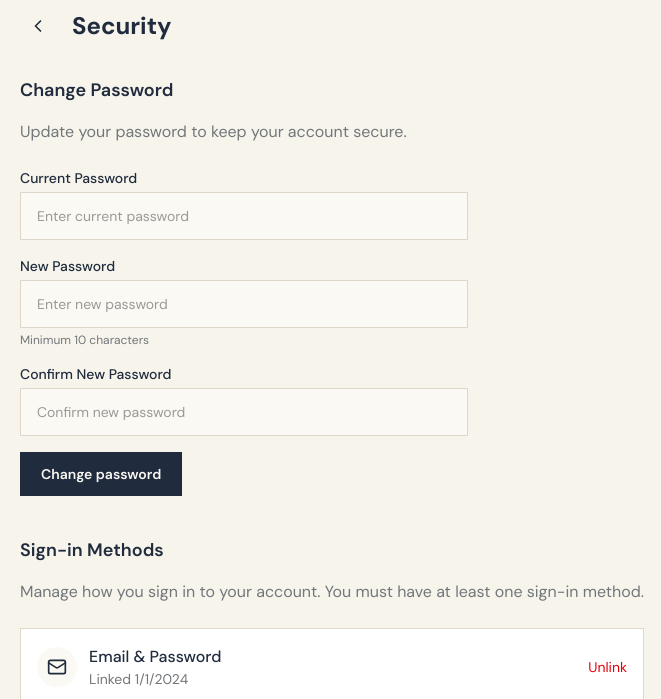
SecurityPage › validates password fields
This screenshot has width=661, height=699.
Check: the password field labelled "Current Password" is shown, box [20,192,468,240]
// Submit without filling fields
Click the button "Change password": point(101, 474) [20,452,182,496]
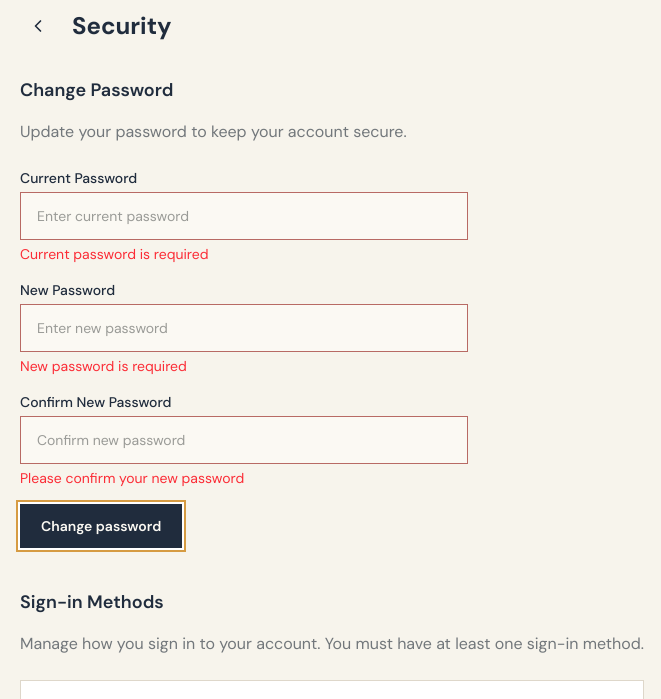
Check: the text "Current password is required" is shown, box [20,245,208,263]
